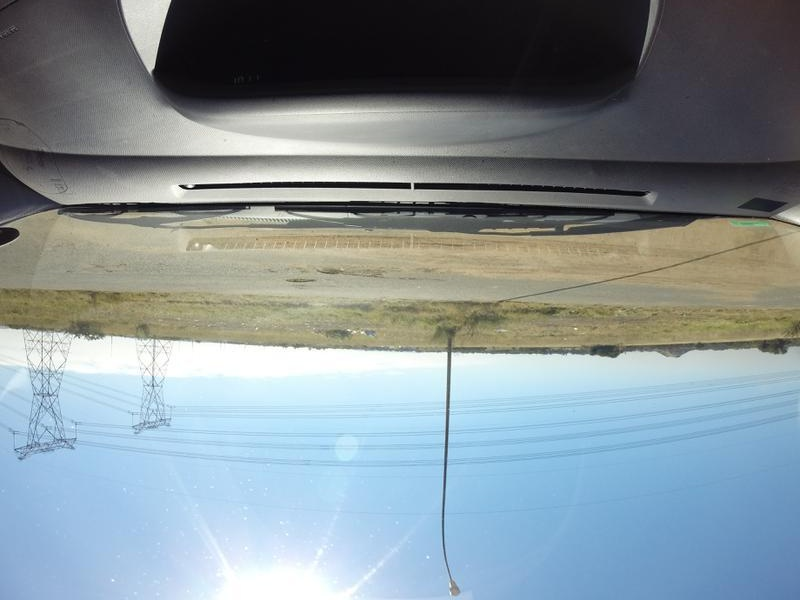pothole: (317, 265, 384, 276), (284, 278, 321, 286), (399, 273, 418, 280)
